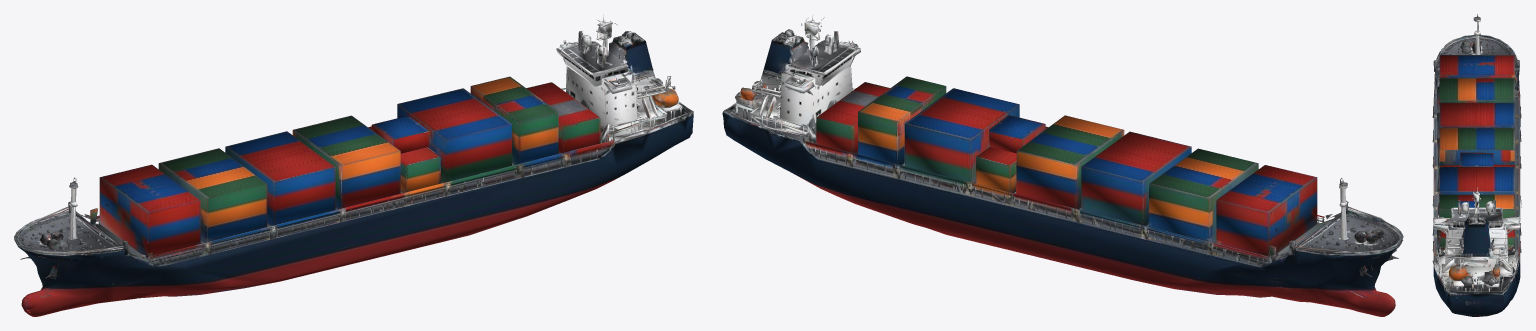
The model's file is container_ship.glb.
The picture shows the model from 3 angles, left to right: view 1: azimuth 30°, elevation 25°; view 2: azimuth 150°, elevation 25°; view 3: azimuth 270°, elevation 25°; orthographic projection. The views are drawn at different scales.
Bounding box in the file's own units: 0.9521 × 0.228 × 0.144.
Materials: 1 (1 with a texture image).
